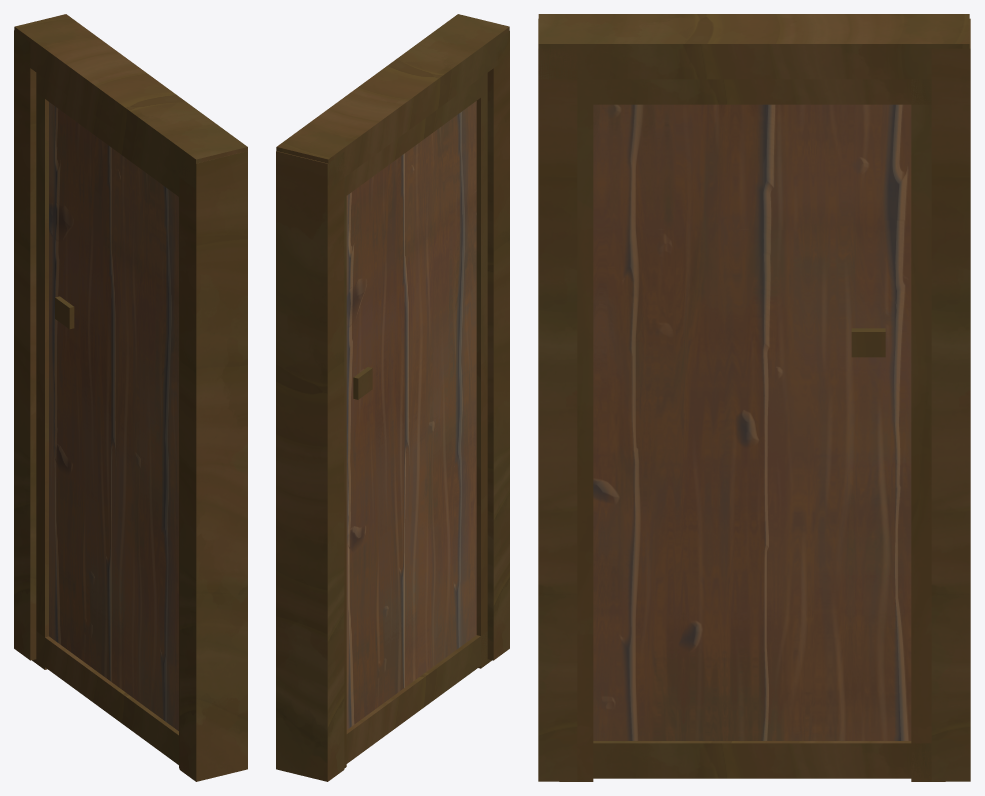
File: porta3F.fbx
3 renders of one model, left to right at view 1: azimuth 30°, elevation 25°; view 2: azimuth 150°, elevation 25°; view 3: azimuth 270°, elevation 25°, orthographic. The views are drawn at different scales.
Parts seen in each view (by area): view 1: Cube.200, Cube.209, Cube.207, Cube.208, Cube.204, Cube.203, Cube.201, Cube.202, Cube.206; view 2: Cube.200, Cube.208, Cube.207, Cube.209, Cube.202, Cube.203, Cube.201, Cube.204, Cube.206; view 3: Cube.200, Cube.208, Cube.209, Cube.207, Cube.204, Cube.203, Cube.202, Cube.201, Cube.205.
Part boxes in pixels (box(x1,y1,x2,y2)): Cube.200: box(49, 102, 178, 730); Cube.209: box(179, 151, 247, 781); Cube.207: box(14, 14, 247, 188); Cube.208: box(14, 30, 36, 660); Cube.204: box(32, 74, 48, 669); Cube.203: box(35, 631, 178, 764); Cube.201: box(36, 73, 179, 196); Cube.202: box(179, 177, 179, 768); Cube.206: box(55, 296, 74, 329); Cube.200: box(346, 101, 476, 729); Cube.208: box(276, 151, 344, 781); Cube.207: box(276, 14, 509, 188); Cube.209: box(487, 31, 509, 660); Cube.202: box(476, 73, 491, 668); Cube.203: box(344, 631, 488, 765); Cube.201: box(344, 78, 481, 197); Cube.204: box(344, 176, 346, 768); Cube.206: box(353, 367, 372, 399); Cube.200: box(593, 104, 911, 740); Cube.208: box(931, 18, 970, 781); Cube.209: box(538, 19, 577, 781); Cube.207: box(538, 14, 969, 79); Cube.204: box(911, 79, 945, 781); Cube.203: box(579, 741, 931, 778); Cube.202: box(559, 80, 593, 781); Cube.201: box(577, 79, 931, 104); Cube.205: box(851, 328, 885, 357).
Bounding box in the file's own units: 54.06 × 626 × 330.
